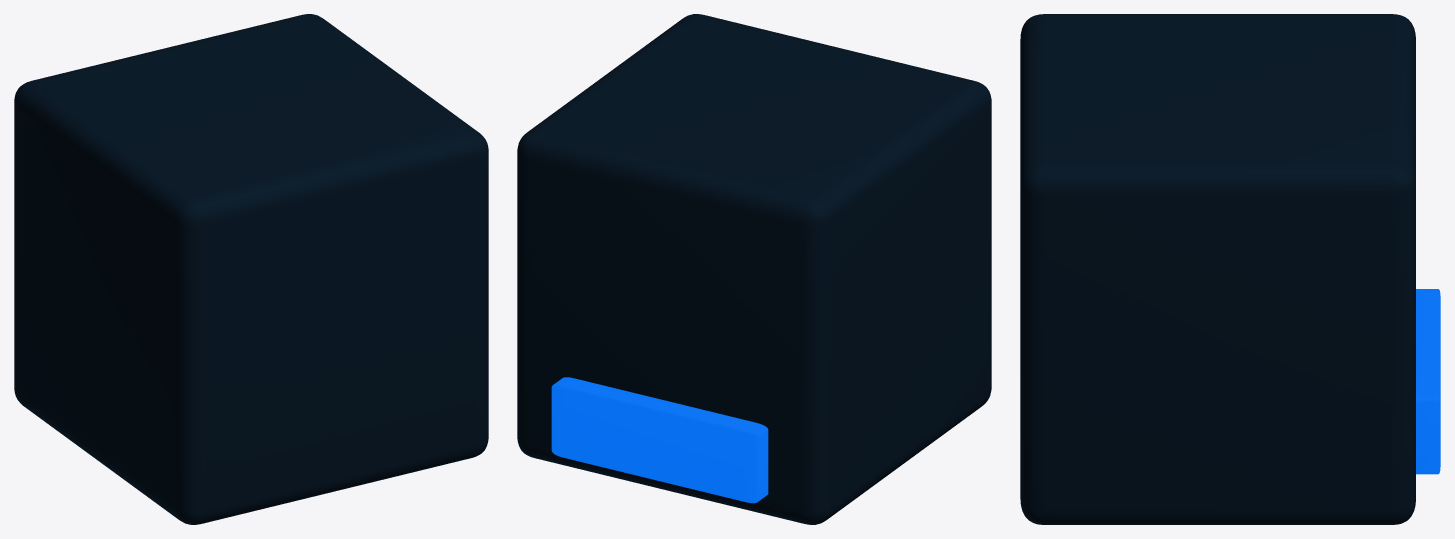
The model's file is Slashable Cube.fbx.
3 renders of one model, left to right at view 1: azimuth 30°, elevation 25°; view 2: azimuth 150°, elevation 25°; view 3: azimuth 270°, elevation 25°, orthographic. The views are drawn at different scales.
Visible parts, largest first — view 1: MeshBaker__0__mesh_mesh; view 2: MeshBaker__0__mesh_mesh; view 3: MeshBaker__0__mesh_mesh.
Part boxes in pixels (x1,y1,x2,y2): MeshBaker__0__mesh_mesh: [14, 14, 488, 524]; MeshBaker__0__mesh_mesh: [517, 14, 991, 524]; MeshBaker__0__mesh_mesh: [1020, 14, 1440, 524].
Size of the model in its own units: 48.74 by 48.74 by 51.75.
